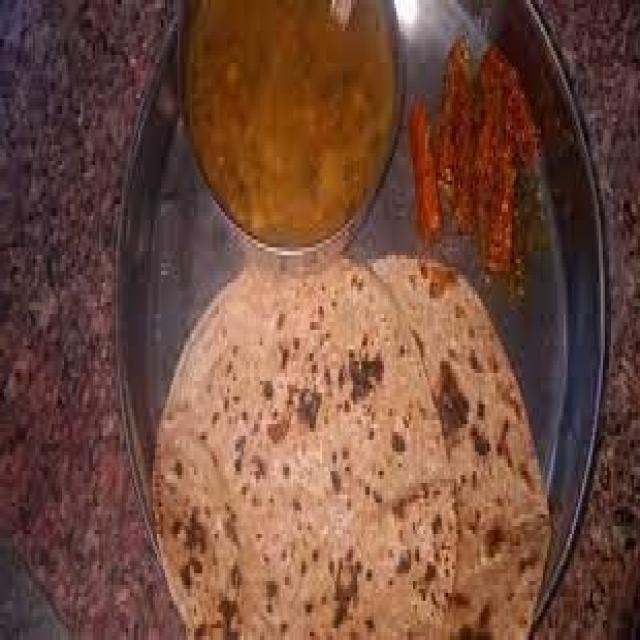Daal: (175, 0, 398, 220)
Roti: (161, 243, 436, 640), (347, 255, 543, 640)
